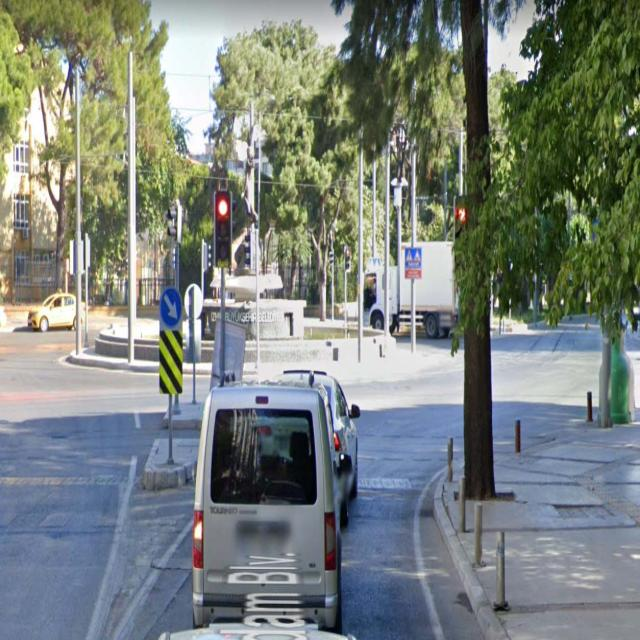kirmizi: (214, 189, 232, 269)
